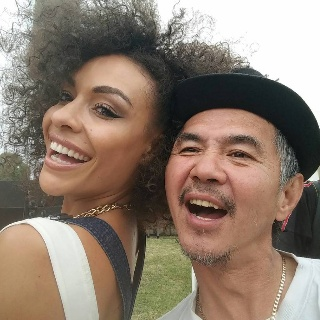without_mask: (165, 108, 284, 260), (37, 54, 153, 198)
